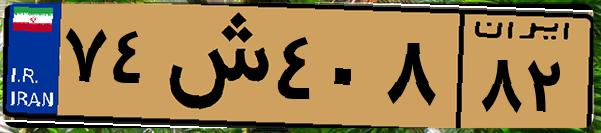0: (330, 28, 385, 110)
2: (525, 38, 570, 115)
4: (270, 28, 330, 110), (110, 28, 158, 98)
7: (57, 26, 110, 100)
8: (385, 28, 445, 110), (475, 38, 525, 113)
ش: (158, 12, 270, 120)
